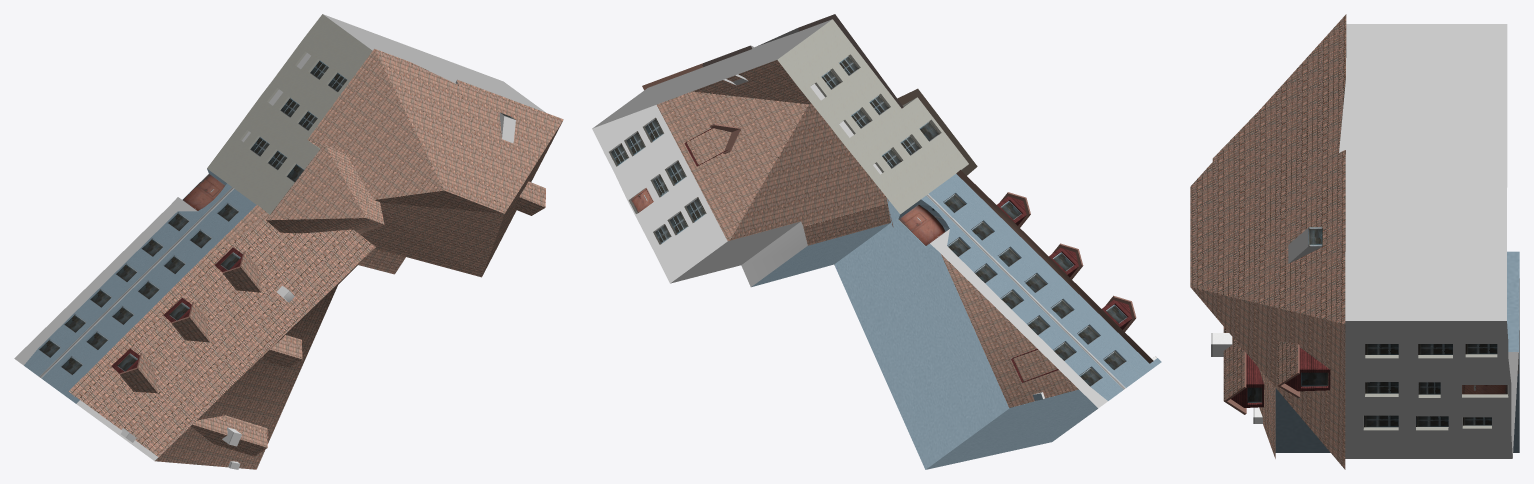
Rendered from Laboratooriumi_14.obj.
3 renders of one model, left to right at view 1: azimuth 30°, elevation 25°; view 2: azimuth 150°, elevation 25°; view 3: azimuth 270°, elevation 25°, orthographic. The views are drawn at different scales.
Visible parts, largest first — view 1: Laboratooriumi_14; view 2: Laboratooriumi_14; view 3: Laboratooriumi_14.
Part boxes in pixels (x1,y1,x2,y2): Laboratooriumi_14: (14,14,563,469); Laboratooriumi_14: (592,14,1161,469); Laboratooriumi_14: (1190,14,1519,469).
Size of the model in its own units: 44.25 by 31.36 by 17.07.
